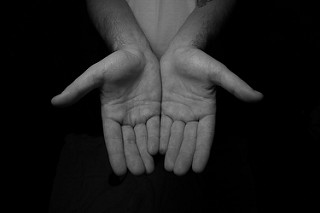palm: (162, 61, 215, 127), (106, 58, 159, 119)
